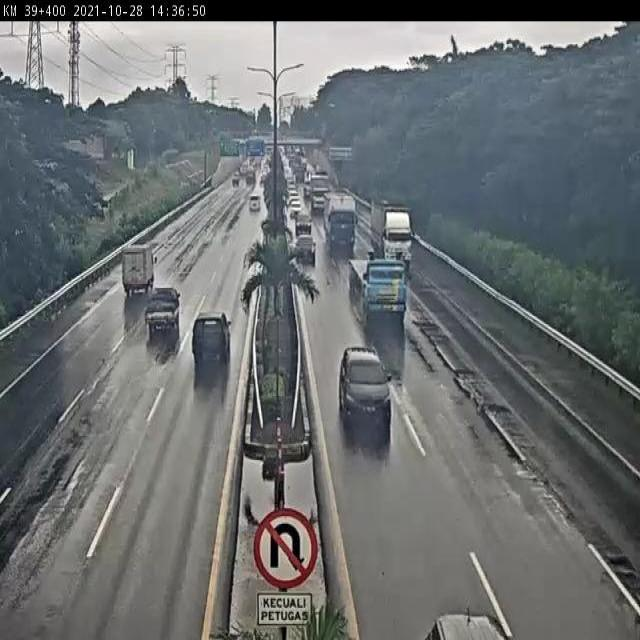big truck: (345, 260, 409, 319), (371, 190, 414, 266), (327, 192, 364, 249)
car: (336, 348, 391, 437), (186, 310, 241, 370), (300, 236, 321, 264), (294, 217, 313, 232)
small truck: (117, 244, 151, 288), (152, 286, 178, 326)
